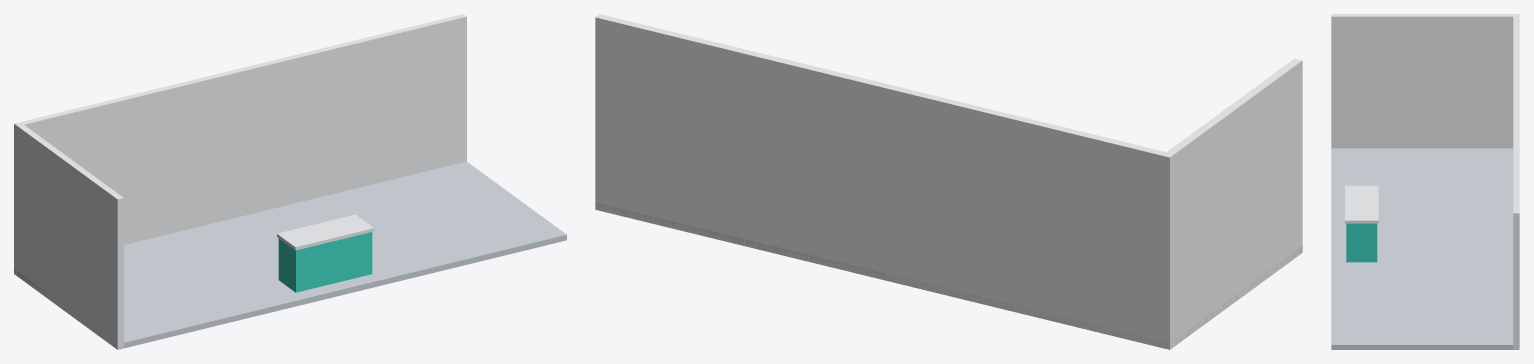
3 views of the same model, side by side, from view 1: azimuth 30°, elevation 25°; view 2: azimuth 150°, elevation 25°; view 3: azimuth 270°, elevation 25° (orthographic). The views are drawn at different scales.
Visible parts, largest first — view 1: Exhibition Booth Concept; view 2: Exhibition Booth Concept; view 3: Exhibition Booth Concept.
Part boxes in pixels (<box>): Exhibition Booth Concept: <box>14,14,566,349</box>; Exhibition Booth Concept: <box>595,14,1302,349</box>; Exhibition Booth Concept: <box>1331,14,1519,349</box>.
Bounding box in the file's own units: 10 × 3.2 × 4.
